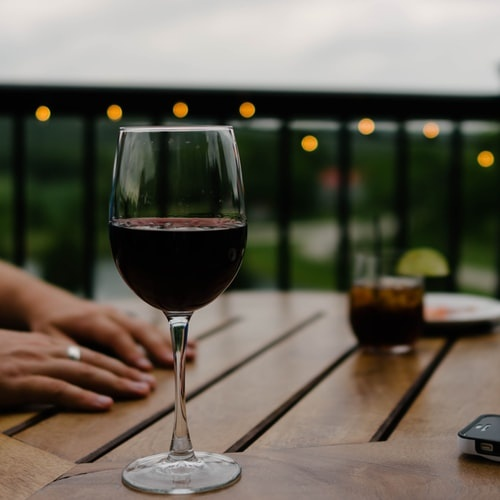whiskey: (101, 125, 252, 486)
